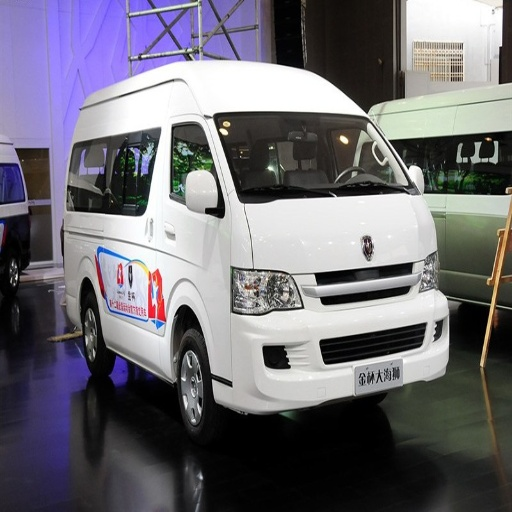back_right_door: (115, 122, 169, 236)
front_bumper: (211, 256, 447, 413)
front_right_door: (149, 117, 228, 267)
front_right_light: (234, 269, 303, 315)
hood: (260, 194, 436, 272)
trunk: (58, 230, 185, 330)
